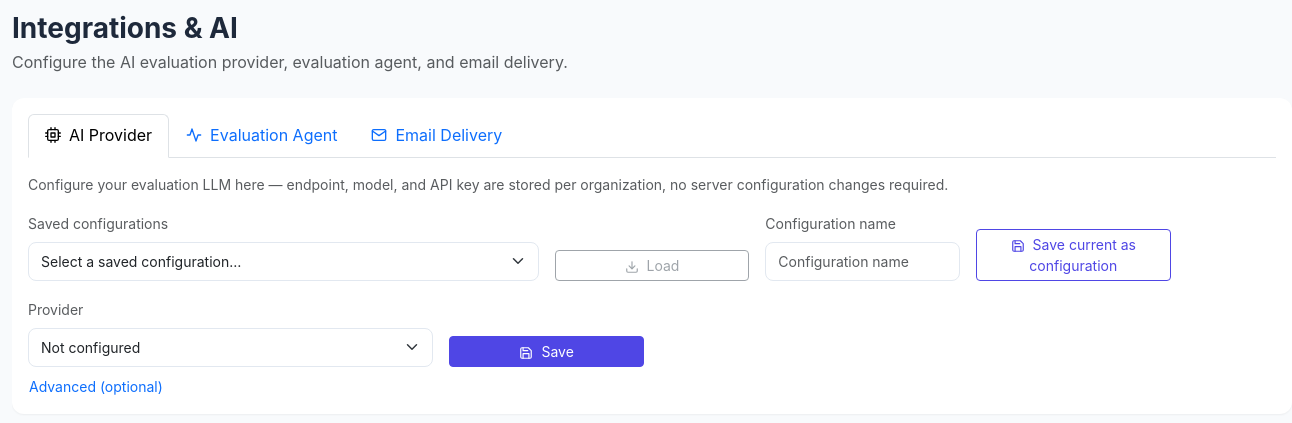
Test: IntegrationSettings › shows evaluation agent health on its tab
The width and height of the screenshot is (1292, 423).
Step 1. Click the tab "Evaluation Agent" → (262, 136), box left=169, top=114, right=354, bottom=158
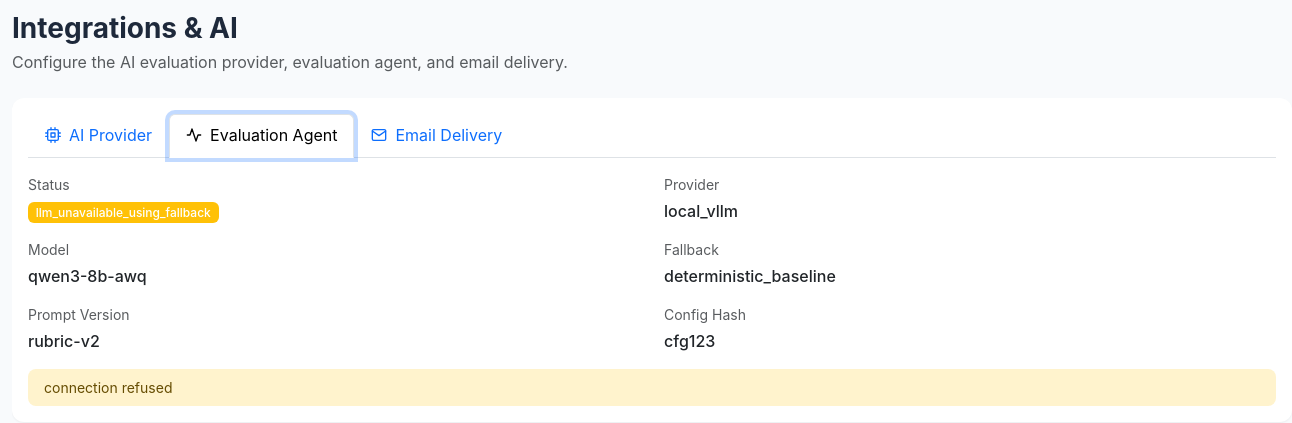
Result: the text "llm_unavailable_using_fallback" is shown at left=28, top=202, right=219, bottom=223
Result: the text "qwen3-8b-awq" is shown at left=28, top=266, right=147, bottom=286
Result: the text "deterministic_baseline" is shown at left=664, top=266, right=836, bottom=286
